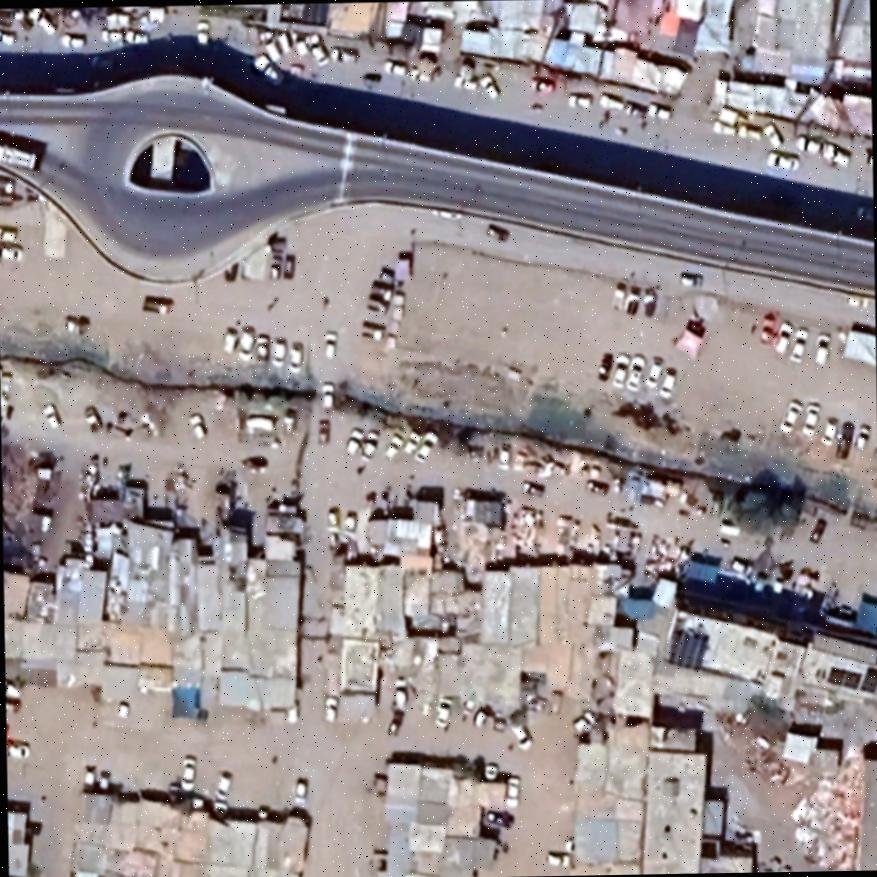Solarpanel: (810, 650, 877, 704), (658, 621, 718, 673)
